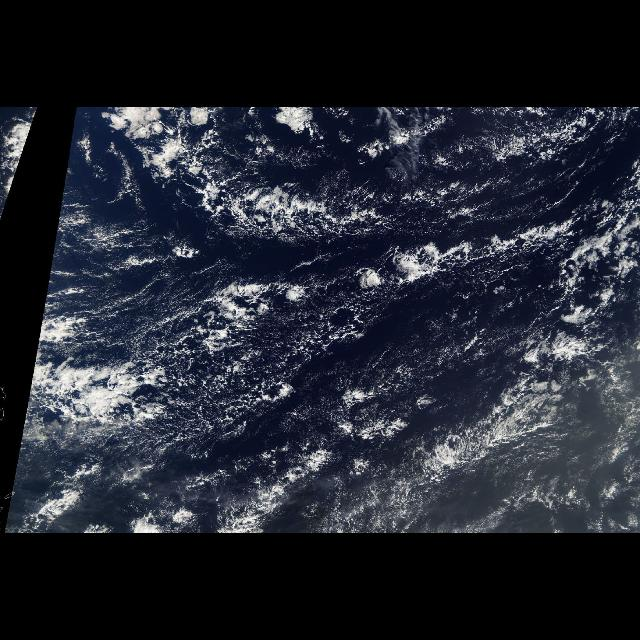Fish: (83, 180, 619, 442)
Gravel: (73, 247, 395, 451), (355, 180, 519, 232)
Sugar: (372, 302, 528, 418), (54, 204, 178, 340)
